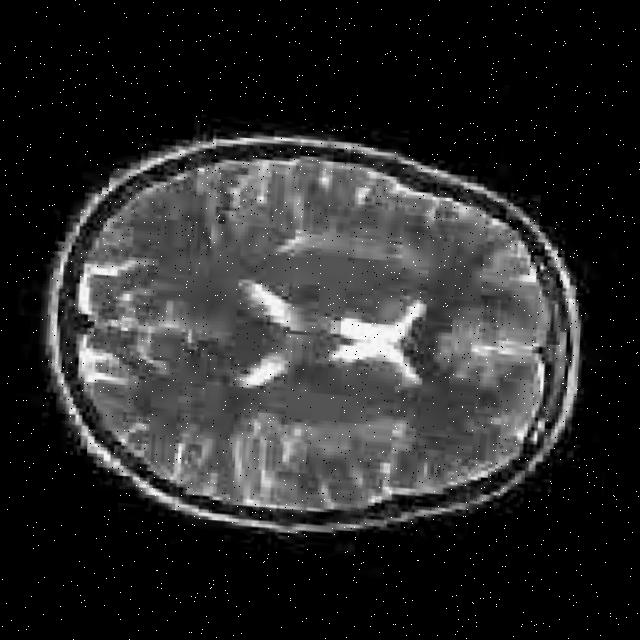NoTumor: (57, 133, 566, 536)
